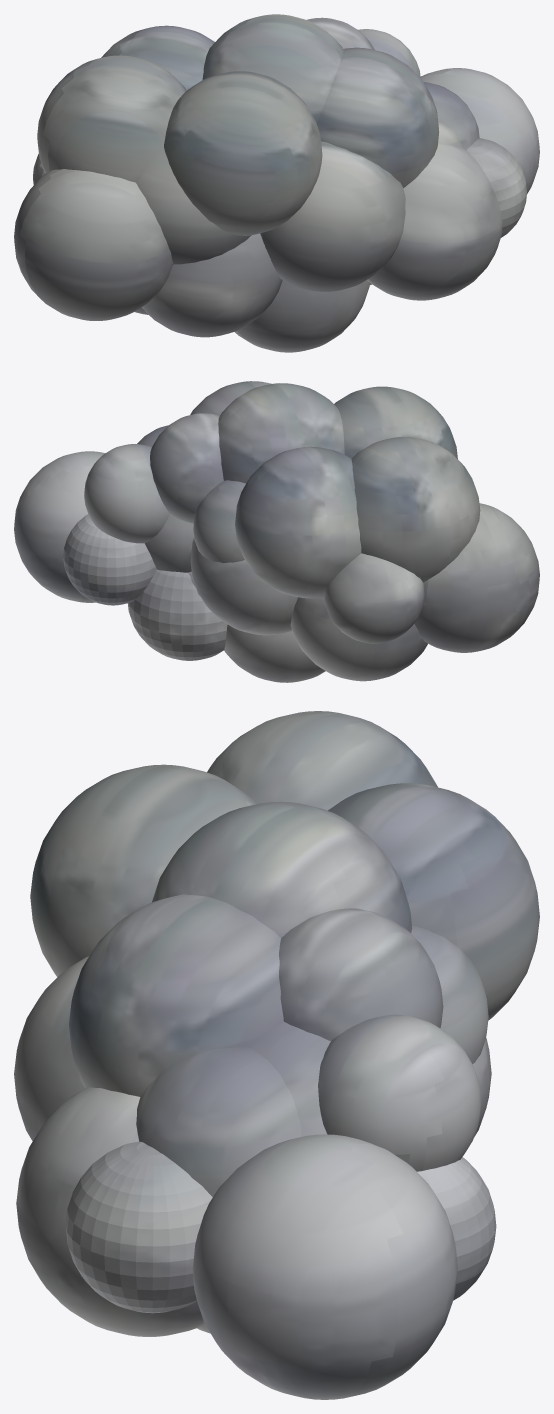
Rendered from Cloud.glb.
3 renders of one model, top to bottom at view 1: azimuth 30°, elevation 25°; view 2: azimuth 150°, elevation 25°; view 3: azimuth 270°, elevation 25°, orthographic. The views are drawn at different scales.
Parts seen in each view (by area): view 1: Sphere; view 2: Sphere; view 3: Sphere.
Part boxes in pixels (x1,y1,x2,y2): Sphere: (14, 14, 539, 352); Sphere: (14, 381, 539, 682); Sphere: (14, 711, 539, 1399).
Bounding box in the file's own units: 2.82 × 1.63 × 1.51.
Materials: 1 (1 with a texture image).
